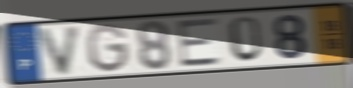0: (226, 15, 264, 65)
8: (135, 19, 174, 72), (272, 13, 310, 61)
E: (175, 16, 225, 70)
G: (85, 22, 132, 75)
V: (36, 23, 85, 77)
